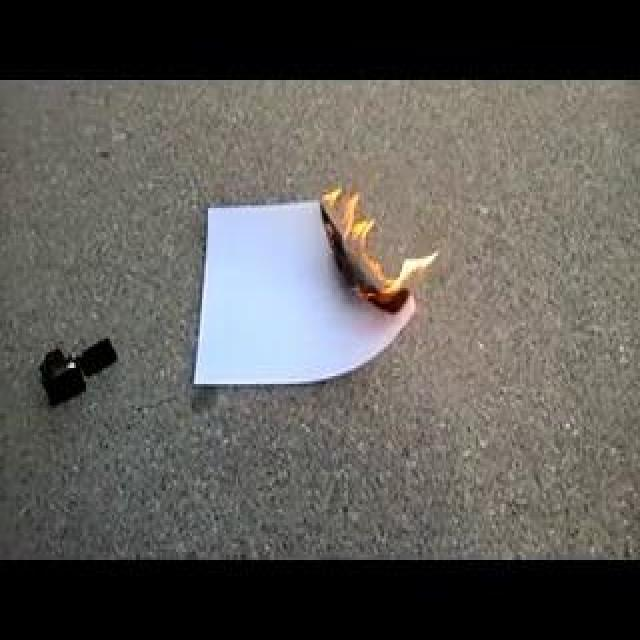Fire: (120, 144, 377, 242)
